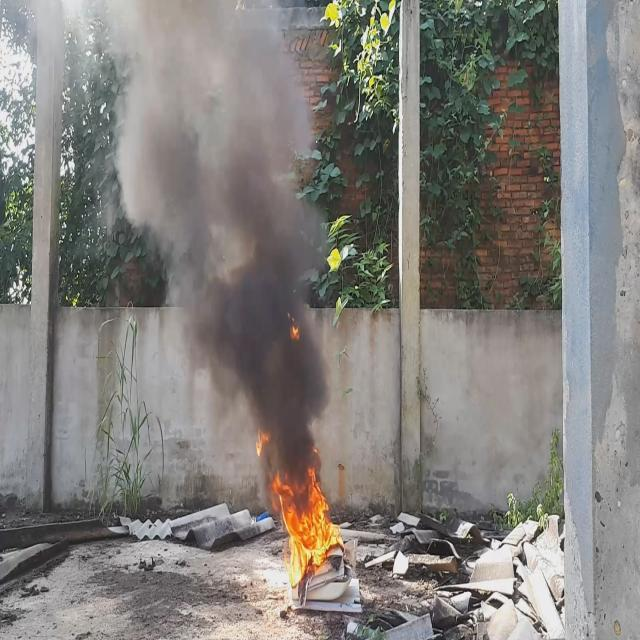Fire: (274, 458, 342, 588)
Smoke: (0, 0, 333, 504)
